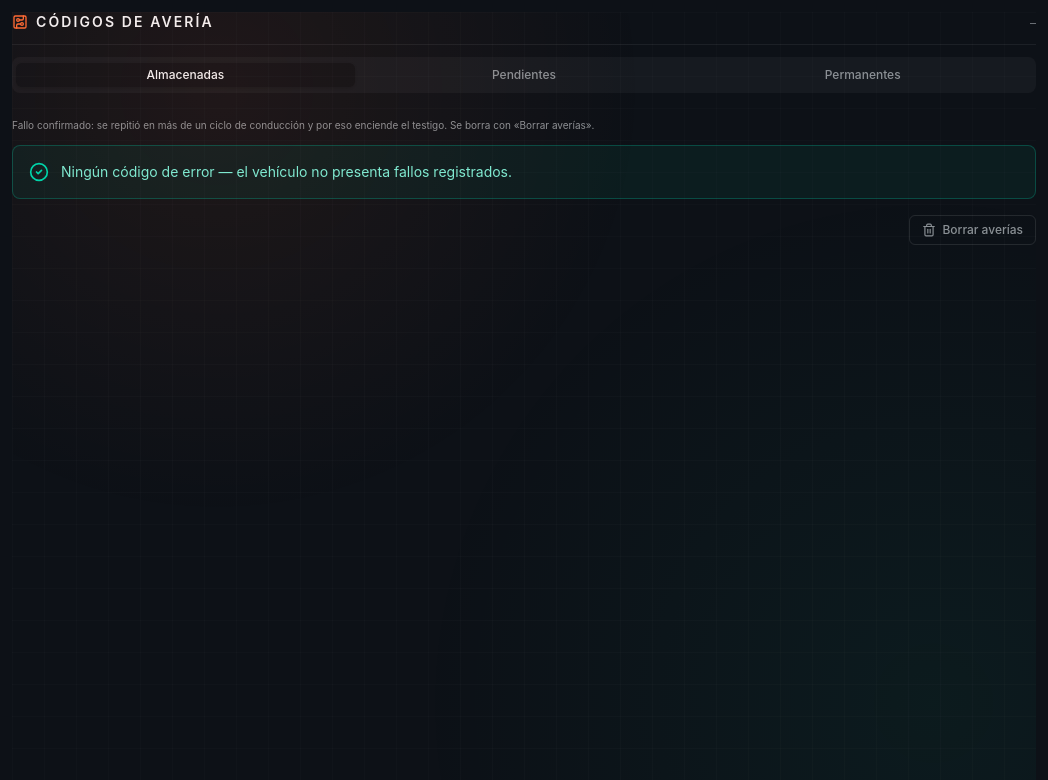
Scenario: DtcPanel › should show pending codes when they exist
Click the tab "Pendientes".
click(524, 75)  # box [355,63,693,87]
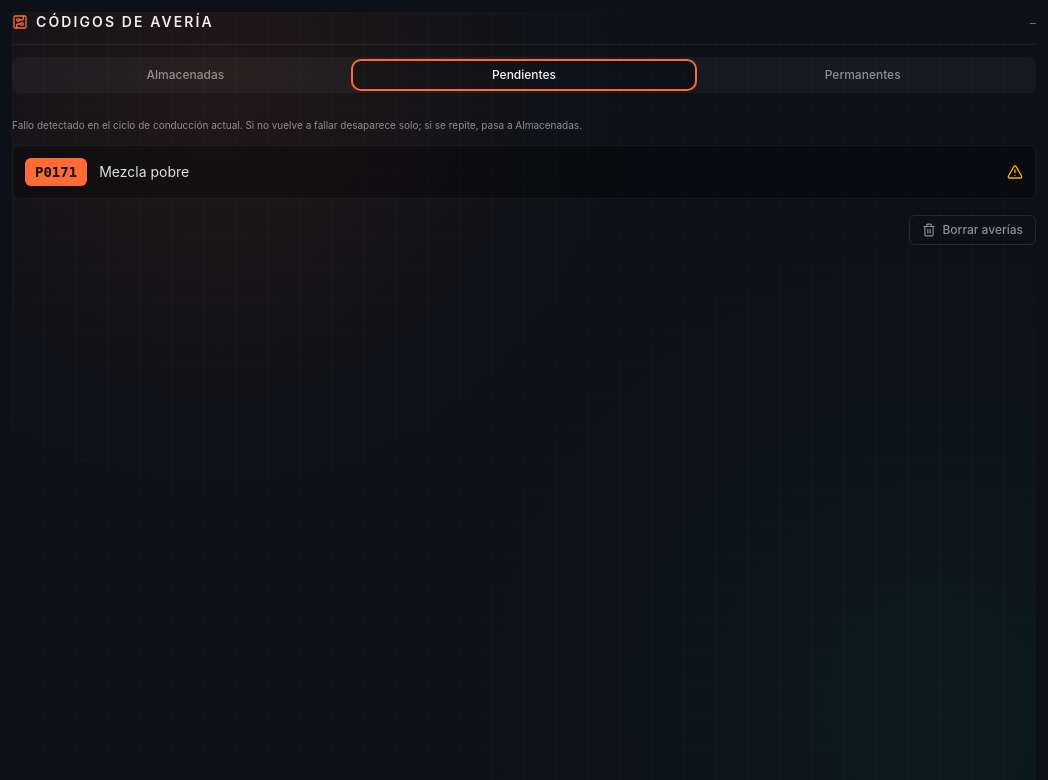
Expected: the text "P0171" is shown, [25,158,87,186]
Expected: the text "Mezcla pobre" is shown, [99,163,189,180]
